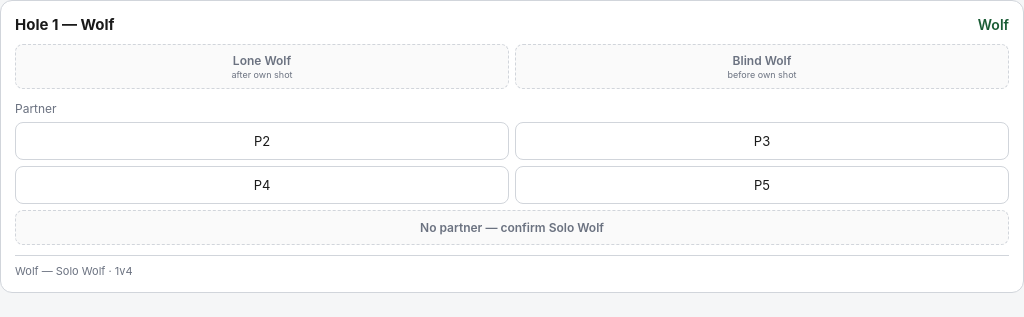
WolfHoleCard — partner selection (default "Wolf" tier) › tapping a partner selects them and shows the Pack Wolf summary
Click the button "P2".
click(262, 141)  # box x1=15 y1=122 x2=509 y2=160
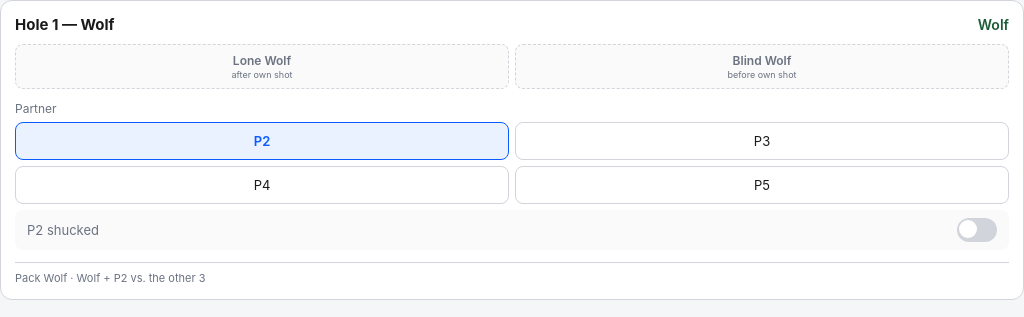
Now the text "Pack Wolf · Wolf + P2 vs. the other 3" is shown, box x1=15 y1=262 x2=1009 y2=285
